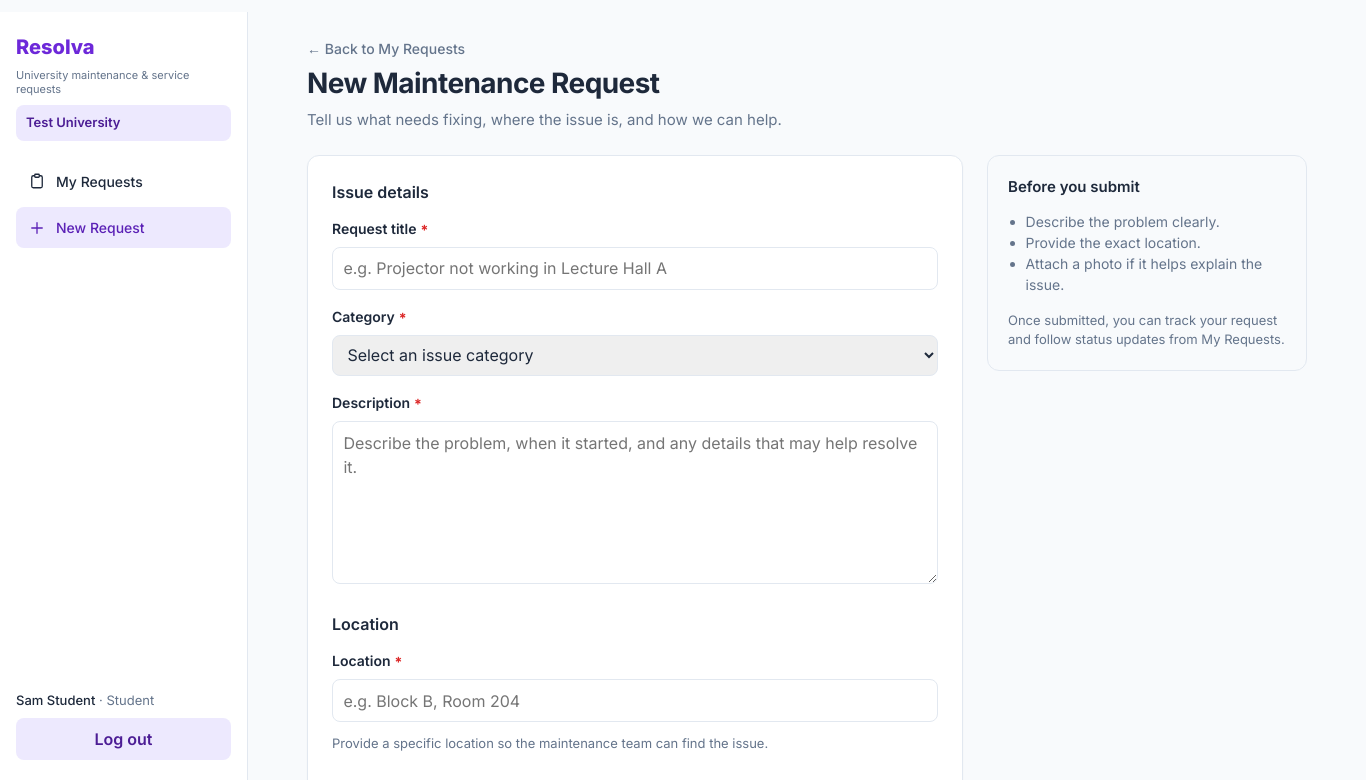
CreateRequestPage › shows an API error if submission fails
Type "Broken projector" into the field labelled "Request title *". click: (635, 268)
box: [332,247,938,290]
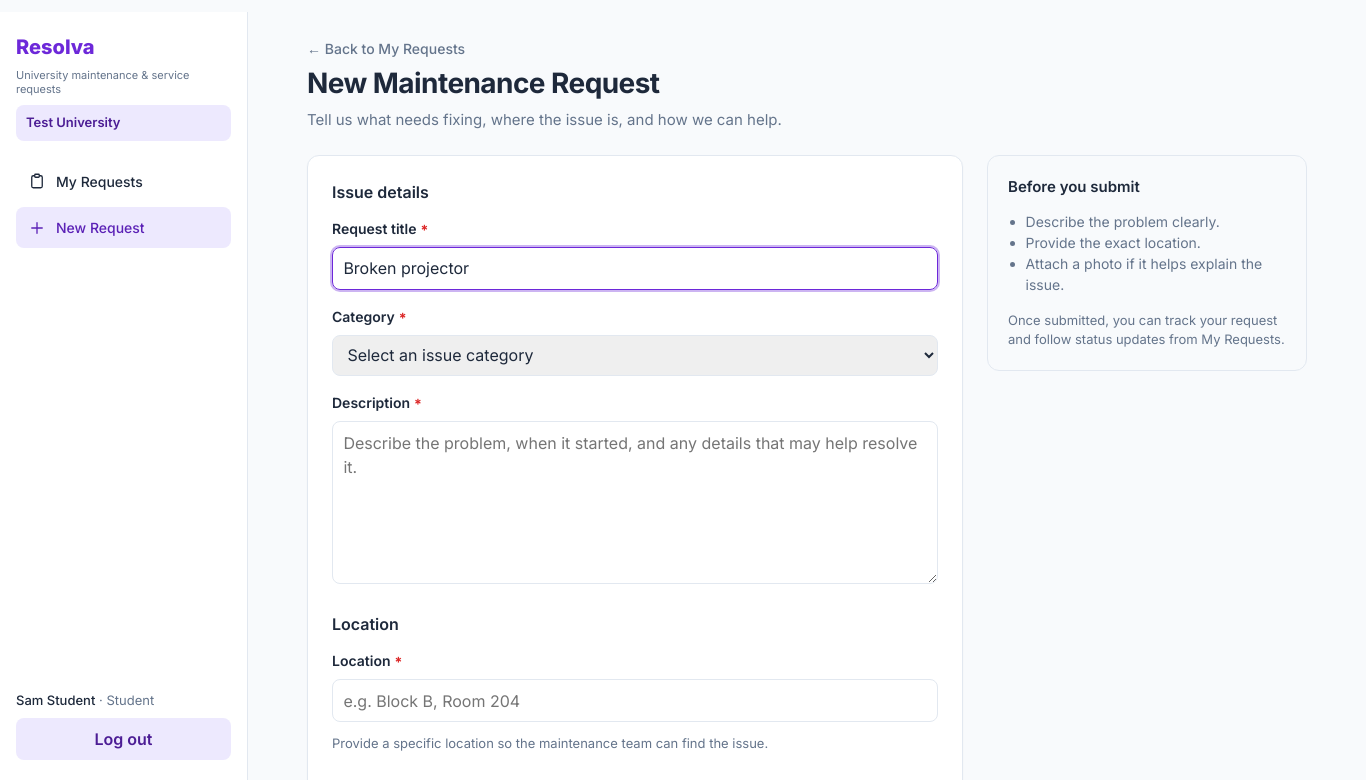
Select "Electrical" in the dropdown labelled "Category *". click: (635, 356)
box: [332,335,938,376]
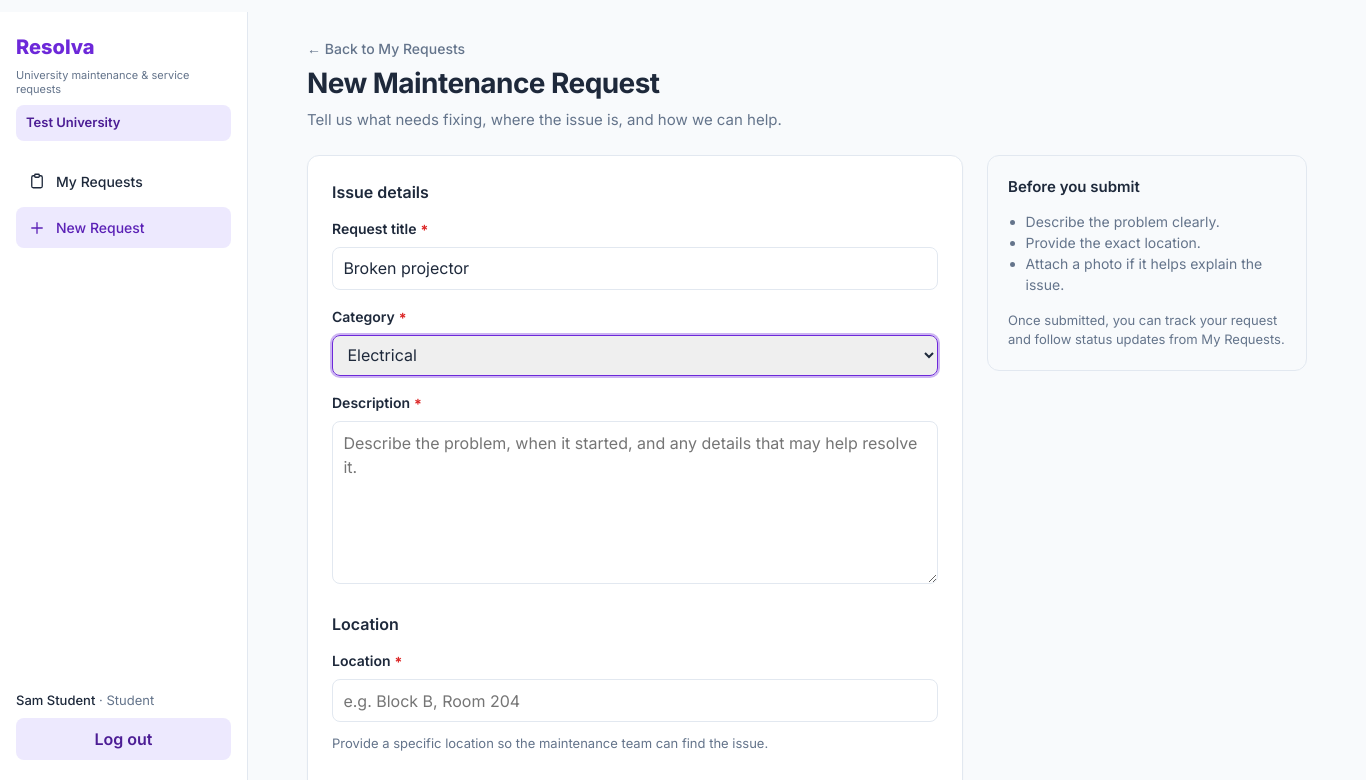
Type "Needs repair." into the text box labelled "Description *". click: (635, 502)
box: [332,421,938,584]
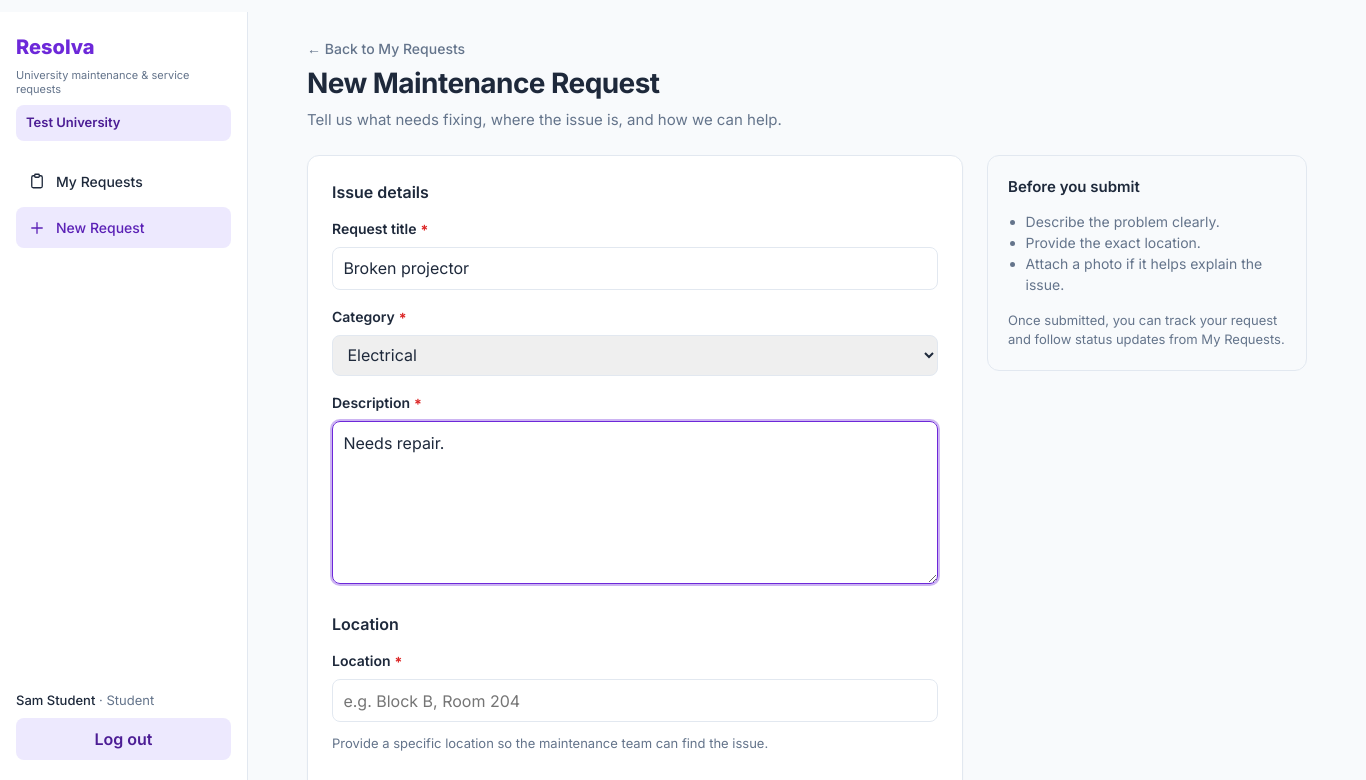
Type "Lab 3" into the field labelled "Location *". click: (635, 701)
box: [332,679,938,722]
(page scrolled)
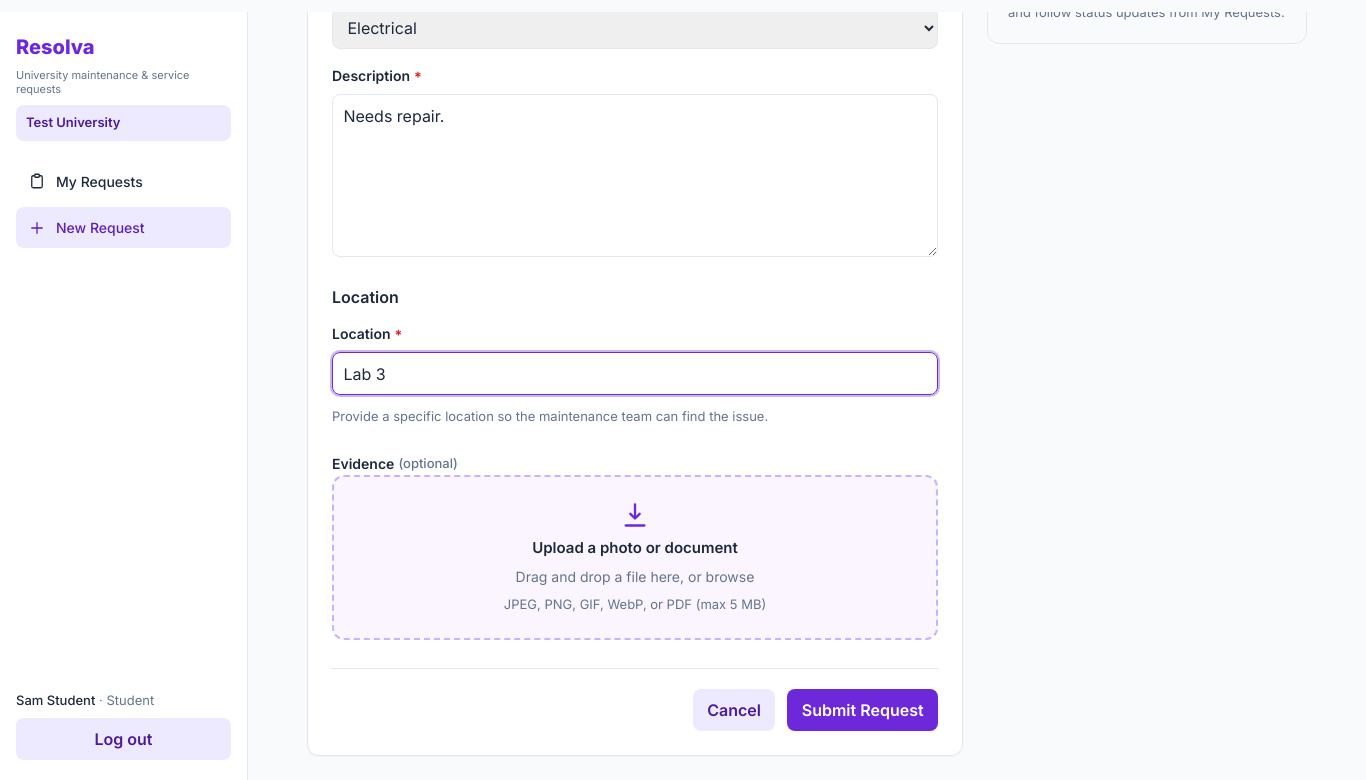
Click the button "Submit Request". click: (863, 710)
box: [787,689,938,731]
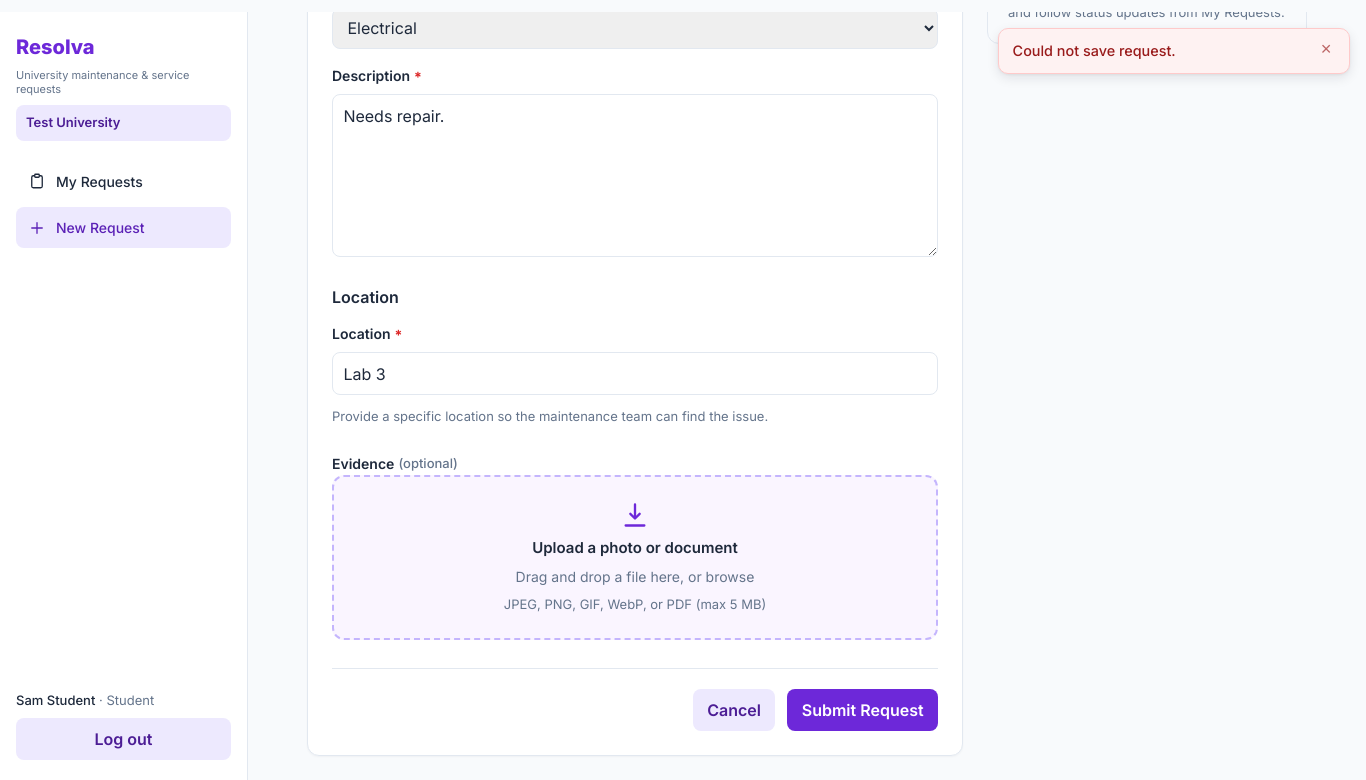
Result: the text "Could not save request." is shown at [1013,42,1176,59]
